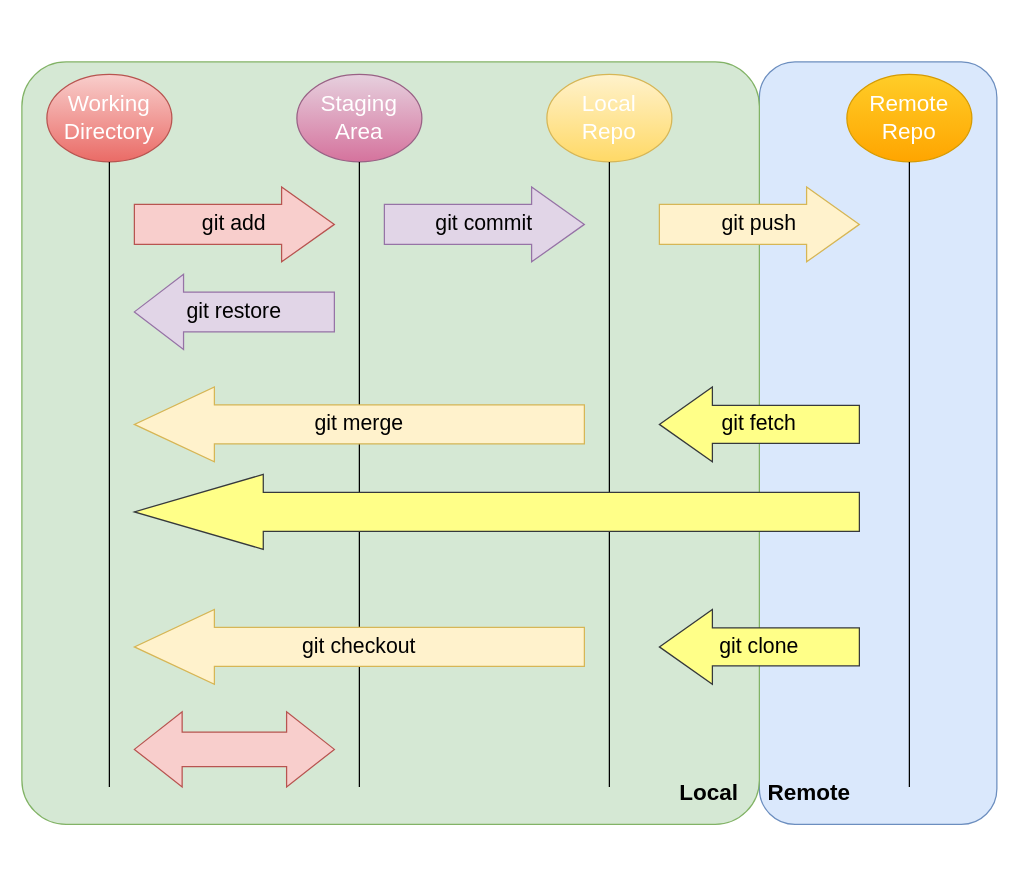
Some shapes in this 1019 by 885 pixel diagram are drawn without their labels. The centre of each missing label's shape, as x and y in pixels:
git diff: point (233, 749)
git pull: point (496, 511)
